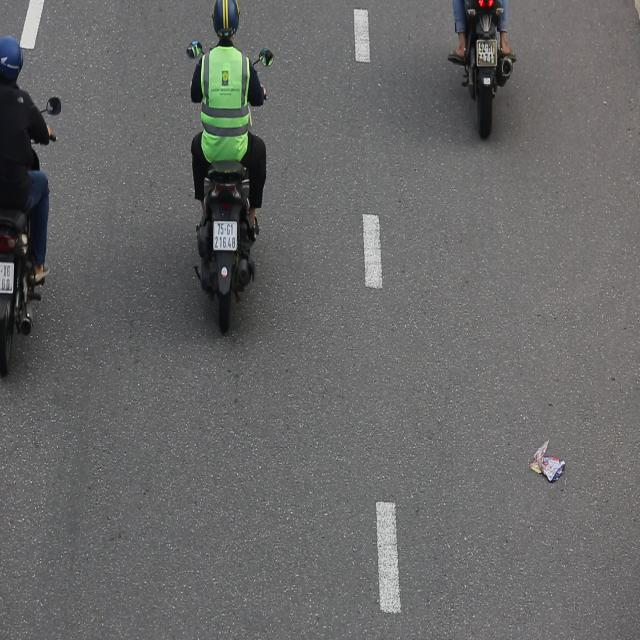motorbike: (185, 0, 272, 339)
